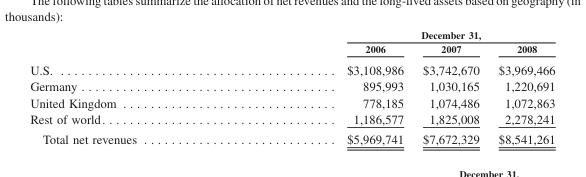table: (29, 28, 554, 145)
table column: (29, 28, 241, 145), (241, 28, 412, 145), (412, 28, 488, 145), (488, 28, 554, 145)
table column header: (29, 28, 554, 58)
table row: (29, 58, 554, 77), (29, 110, 554, 128), (29, 41, 554, 58), (29, 77, 554, 94), (29, 128, 554, 145), (29, 94, 554, 110), (29, 28, 554, 41)
table spanning cell: (241, 28, 554, 41)
